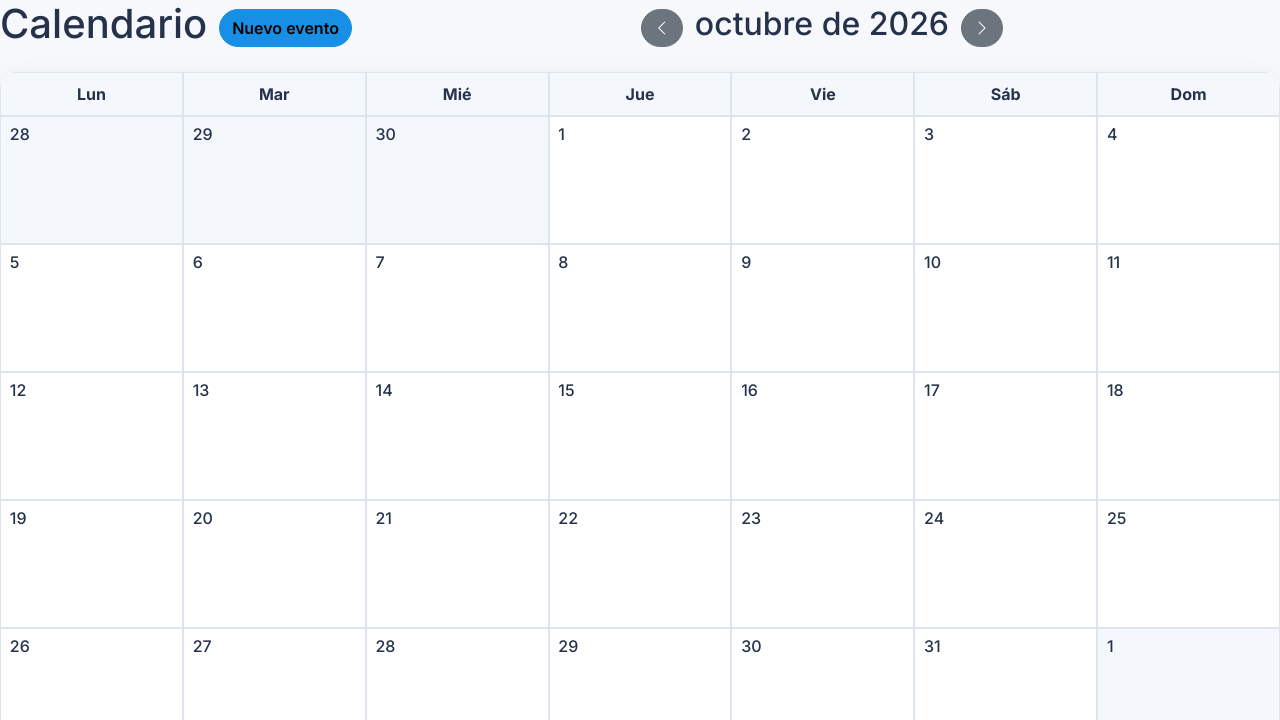
Test case: CalendarComponent › opens and closes the event form in a modal
Click the button "Nuevo evento". click: (286, 28)
box: x1=219 y1=9 x2=352 y2=47
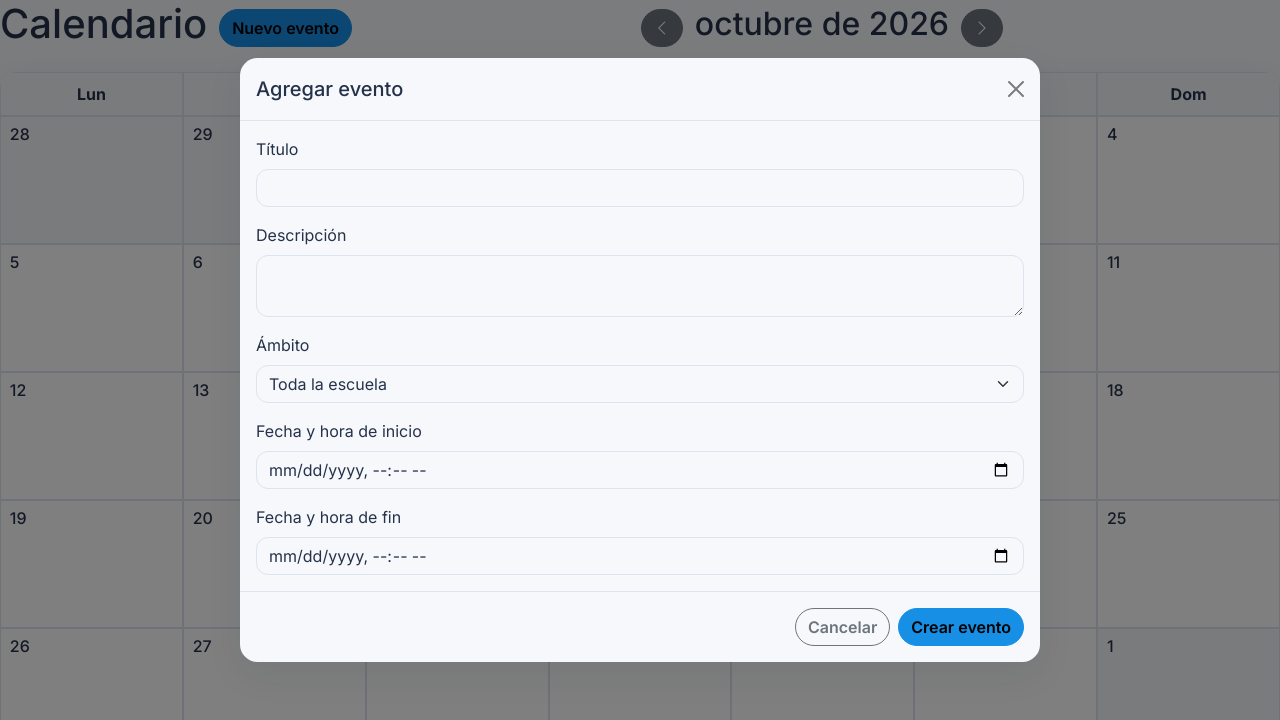
Expected: the dialog is shown, x1=240 y1=58 x2=1040 y2=662
Click the button with class "btn-outline-secondary". click: (843, 627)
box: x1=795 y1=608 x2=890 y2=646
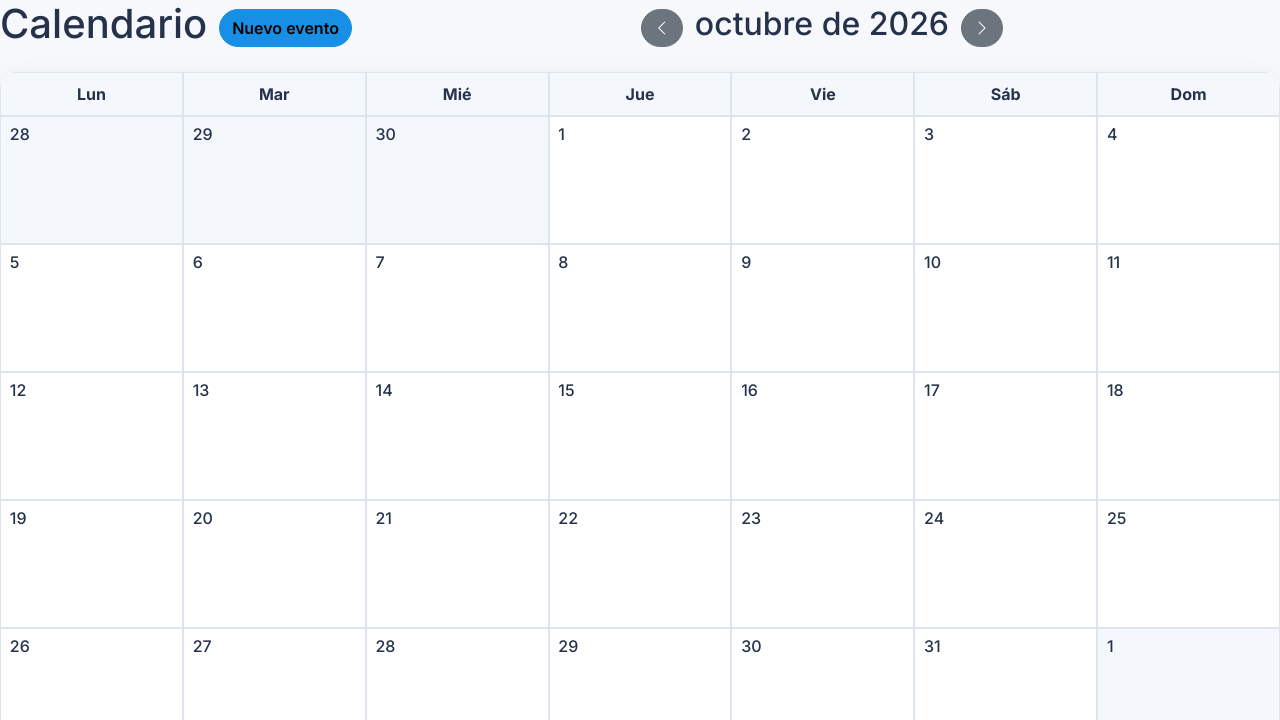
Expected: the dialog is gone
